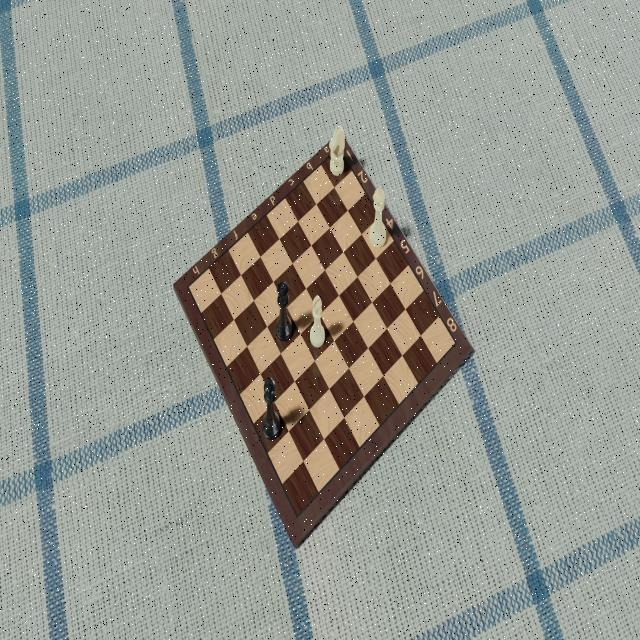black-king: (259, 375, 283, 445)
black-queen: (273, 280, 295, 344)
white-bishop: (308, 293, 328, 351)
white-king: (370, 184, 390, 252)
white-knight: (328, 124, 348, 180)
